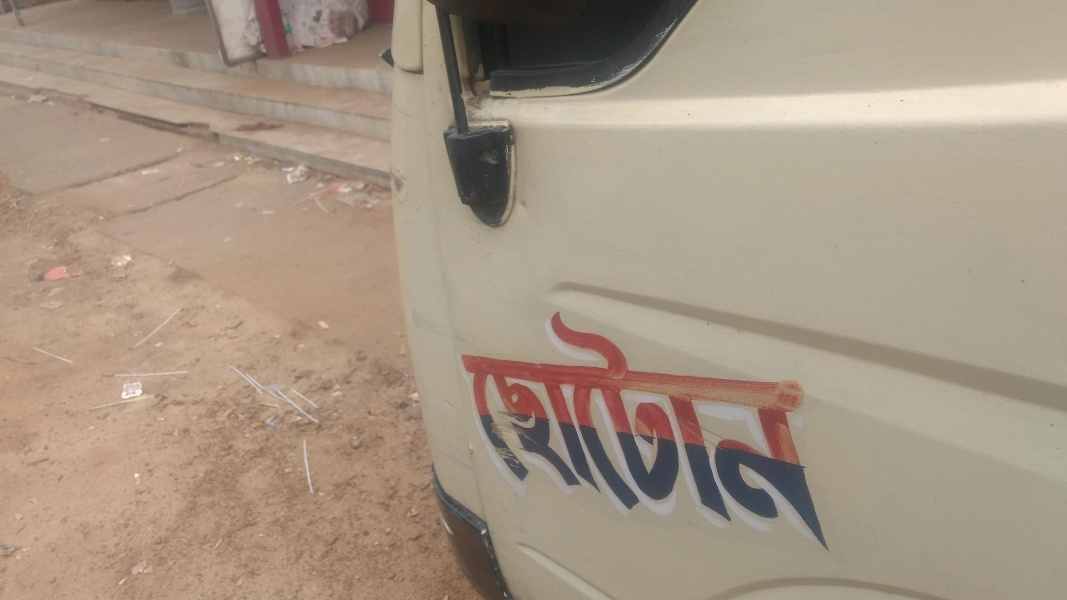text: (449, 306, 464, 569), (465, 306, 480, 569), (481, 306, 496, 569), (497, 306, 512, 569), (513, 306, 528, 569), (529, 306, 544, 569), (545, 306, 560, 569), (561, 306, 576, 569), (577, 306, 592, 569), (593, 306, 608, 569), (609, 306, 624, 569), (625, 306, 640, 569), (641, 306, 656, 569), (657, 306, 672, 569), (673, 306, 688, 569), (689, 306, 704, 569), (705, 306, 720, 569), (721, 306, 736, 569), (737, 306, 752, 569), (753, 306, 768, 569), (769, 306, 784, 569), (785, 306, 800, 569), (801, 306, 816, 569), (817, 306, 832, 569), (833, 306, 848, 569), (440, 306, 448, 569), (849, 306, 852, 569)
